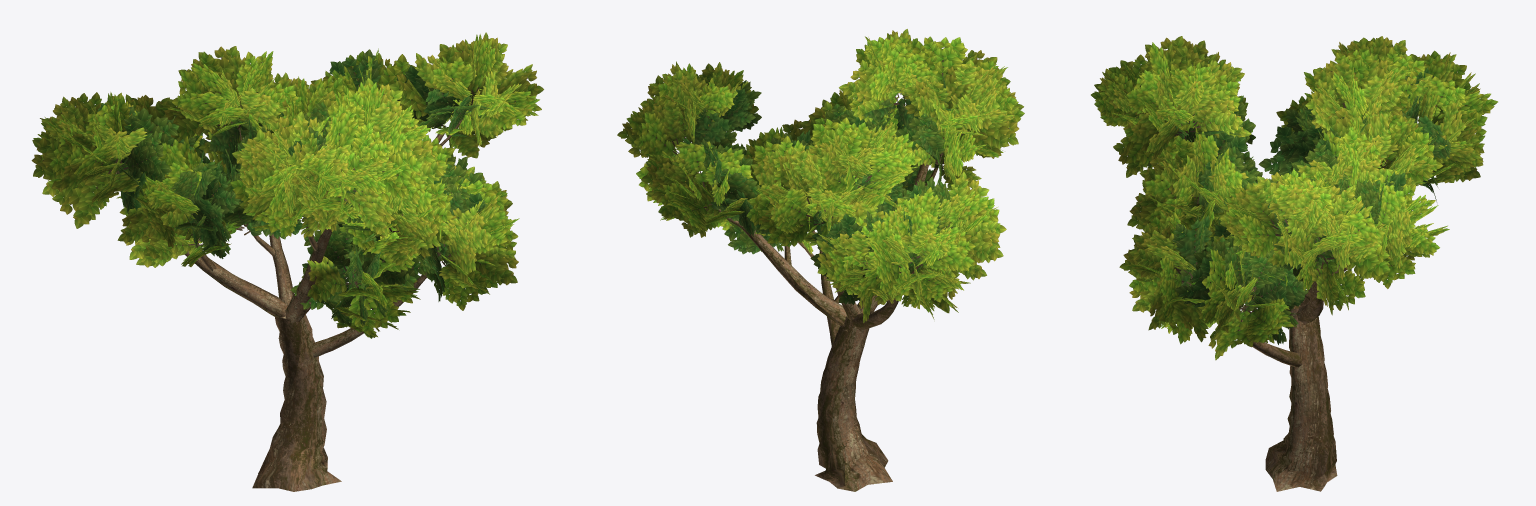
The model's file is laubbaum-1.glb.
3 renders of one model, left to right at view 1: azimuth 30°, elevation 25°; view 2: azimuth 150°, elevation 25°; view 3: azimuth 270°, elevation 25°, orthographic. The views are drawn at different scales.
Parts seen in each view (by area): view 1: laubbaum-1; view 2: laubbaum-1; view 3: laubbaum-1.
Part boxes in pixels (left/top/right/bottom): laubbaum-1: left=31, top=32, right=543, bottom=491; laubbaum-1: left=617, top=29, right=1024, bottom=491; laubbaum-1: left=1091, top=36, right=1497, bottom=491.
Size of the model in its own units: 10.67 by 9.56 by 8.95.
2 materials, 2 textured.
